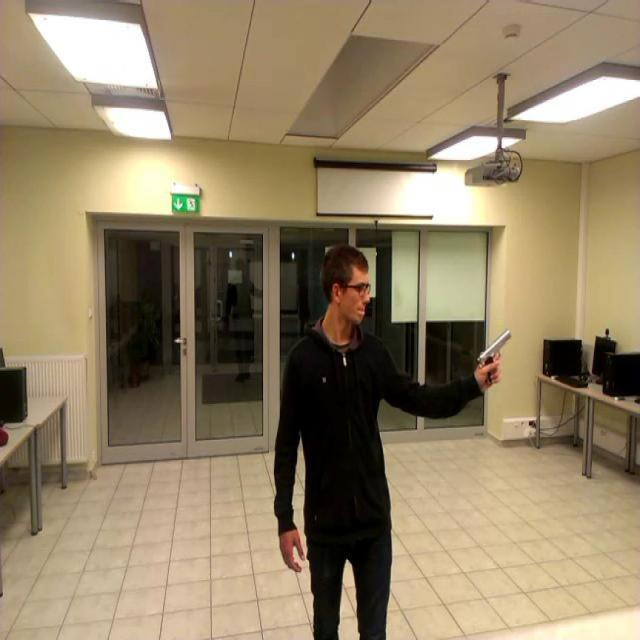pistol: (478, 328, 513, 384)
